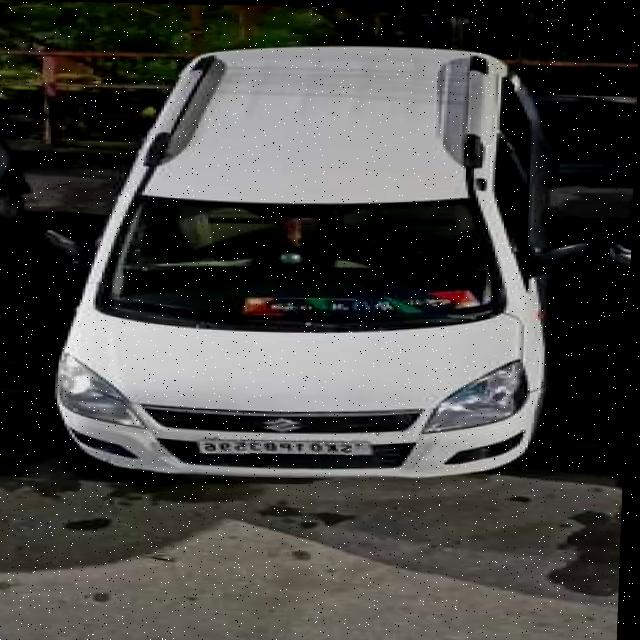plate: (199, 434, 382, 458)
